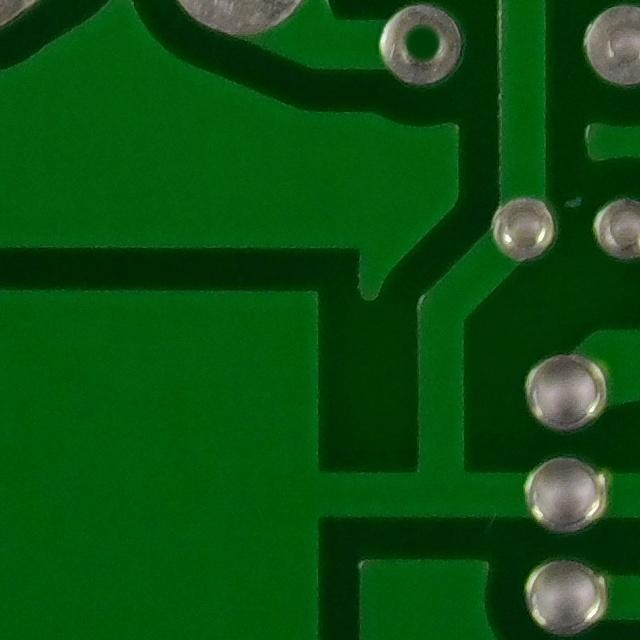missing_hole: (368, 5, 463, 84)
